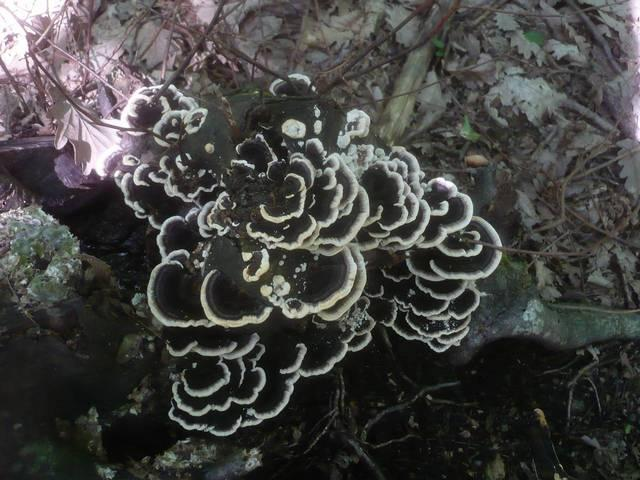poisonous_mushroom: (106, 72, 504, 438)
